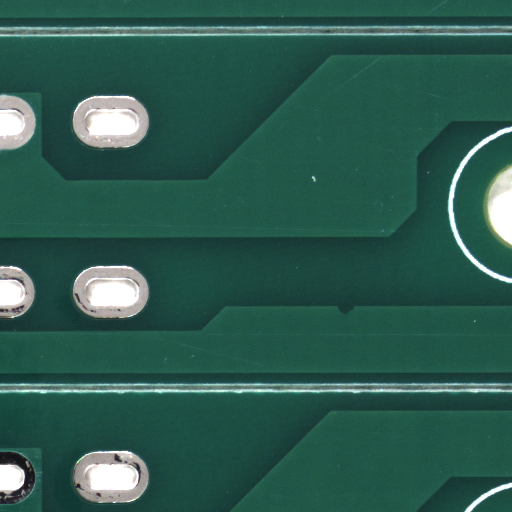Mouse_bite: (346, 309, 361, 318)
